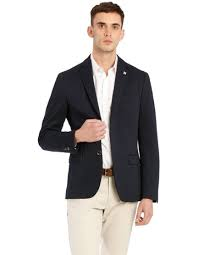F_M_suit jacket: (31, 50, 173, 208)
F_belt: (90, 161, 138, 184)
